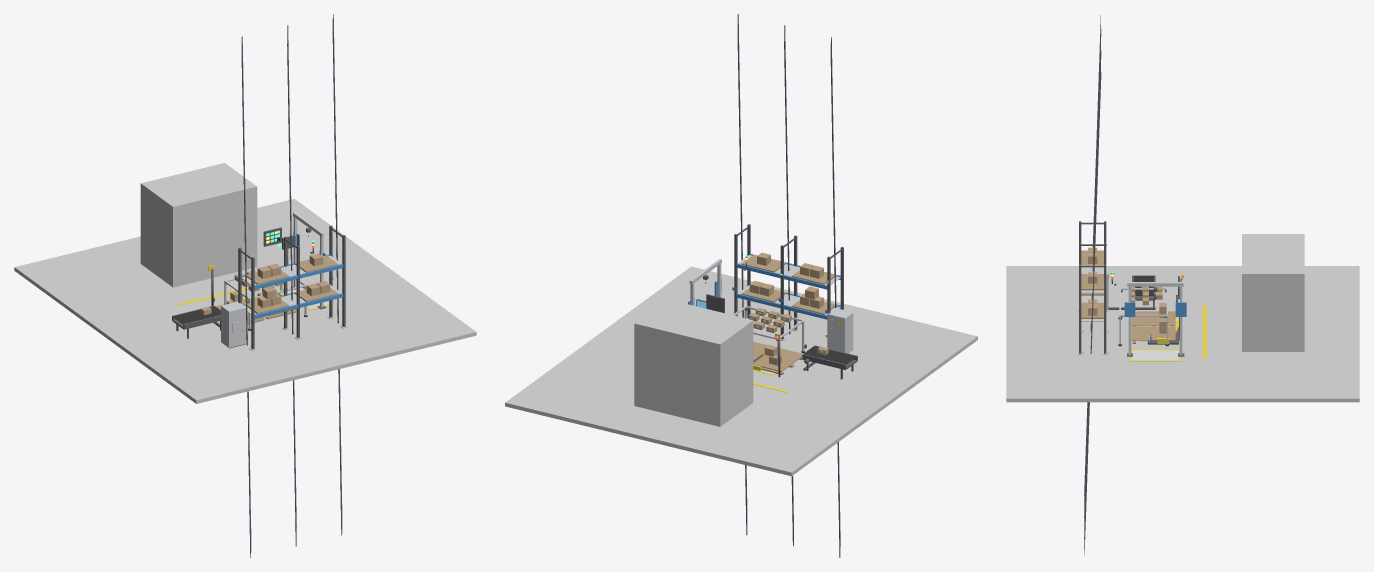
File: storage.glb
3 views of the same model, side by side, from view 1: azimuth 30°, elevation 25°; view 2: azimuth 150°, elevation 25°; view 3: azimuth 270°, elevation 25° (orthographic). The views are drawn at different scales.
Parts seen in each view (by area): view 1: PHYS_Review_FloorPatch, TRIGGER_Info_Storage, STATION_07_Storage_Cabinet, STATION_07_Storage_RackBrace_1, STATION_07_Storage_RackBrace_3, STATION_07_Storage_RackBrace_2; view 2: PHYS_Review_FloorPatch, TRIGGER_Info_Storage, STATION_07_Storage_Cabinet, STATION_07_Storage_RackBrace_1, STATION_07_Storage_RackBrace_3, STATION_07_Storage_RackBrace_2; view 3: PHYS_Review_FloorPatch, TRIGGER_Info_Storage, STATION_07_Storage_RackBrace_3, STATION_07_Storage_RackBrace_2, STATION_07_Storage_ShippingZoneInner, STATION_07_Storage_RackBrace_1.
Boxes of the visible parts, bbox=[...] form: PHYS_Review_FloorPatch: bbox=[14, 199, 476, 403]; TRIGGER_Info_Storage: bbox=[140, 163, 257, 287]; STATION_07_Storage_Cabinet: bbox=[221, 301, 246, 347]; STATION_07_Storage_RackBrace_1: bbox=[241, 36, 251, 557]; STATION_07_Storage_RackBrace_3: bbox=[332, 14, 342, 535]; STATION_07_Storage_RackBrace_2: bbox=[287, 25, 296, 546]; PHYS_Review_FloorPatch: bbox=[505, 266, 977, 476]; TRIGGER_Info_Storage: bbox=[634, 299, 753, 426]; STATION_07_Storage_Cabinet: bbox=[827, 308, 853, 353]; STATION_07_Storage_RackBrace_1: bbox=[830, 37, 840, 557]; STATION_07_Storage_RackBrace_3: bbox=[737, 14, 747, 534]; STATION_07_Storage_RackBrace_2: bbox=[784, 25, 793, 546]; PHYS_Review_FloorPatch: bbox=[1006, 266, 1359, 402]; TRIGGER_Info_Storage: bbox=[1242, 234, 1304, 351]; STATION_07_Storage_RackBrace_3: bbox=[1084, 58, 1101, 554]; STATION_07_Storage_RackBrace_2: bbox=[1084, 37, 1101, 527]; STATION_07_Storage_ShippingZoneInner: bbox=[1132, 350, 1178, 360]; STATION_07_Storage_RackBrace_1: bbox=[1084, 15, 1101, 505].
Size of what is drawn, in the model's own units: 8 by 14.07 by 9.
